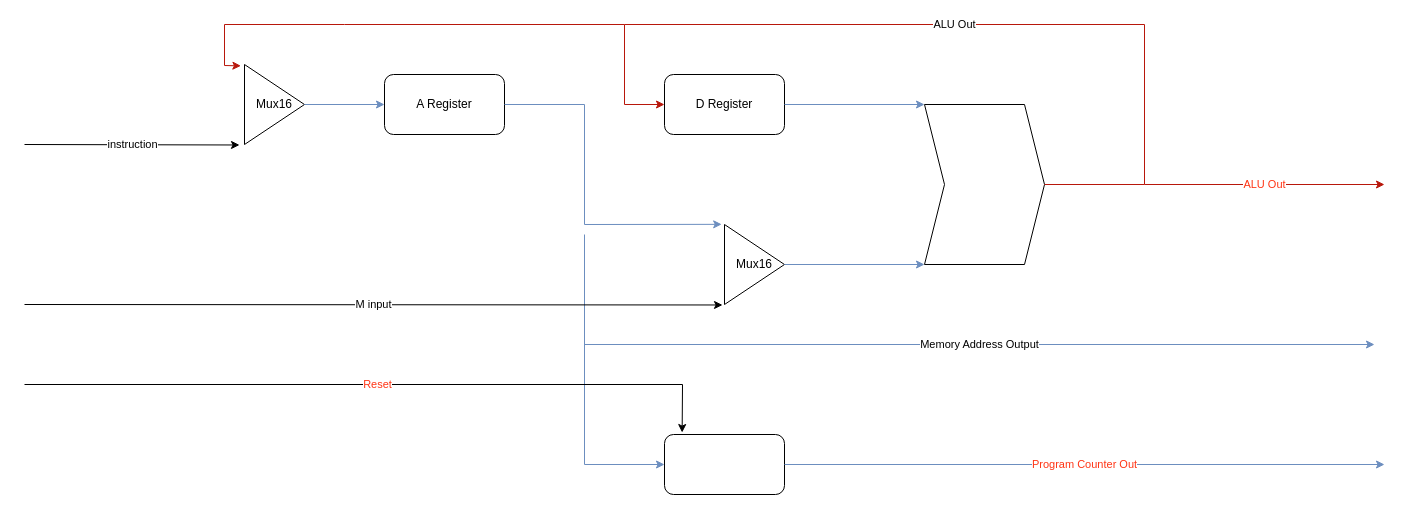
Some shapes in this 1410 by 512 pixel diagram are drawn without their labels. Here are the shapes that lost their labels. From the top down, the box of each, then its label:
(924, 104, 1044, 264): ALU
(664, 434, 784, 494): PC
